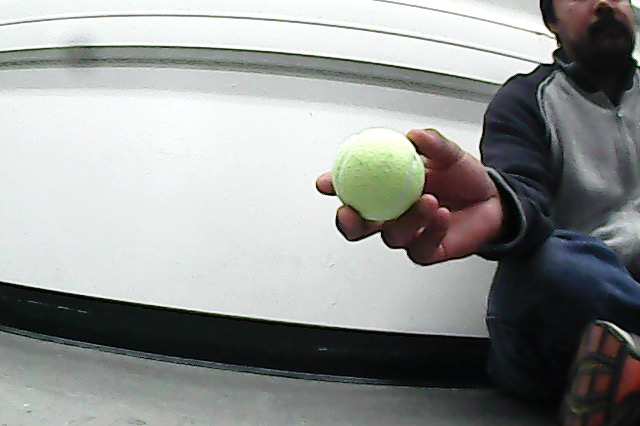ball: (330, 124, 431, 225)
